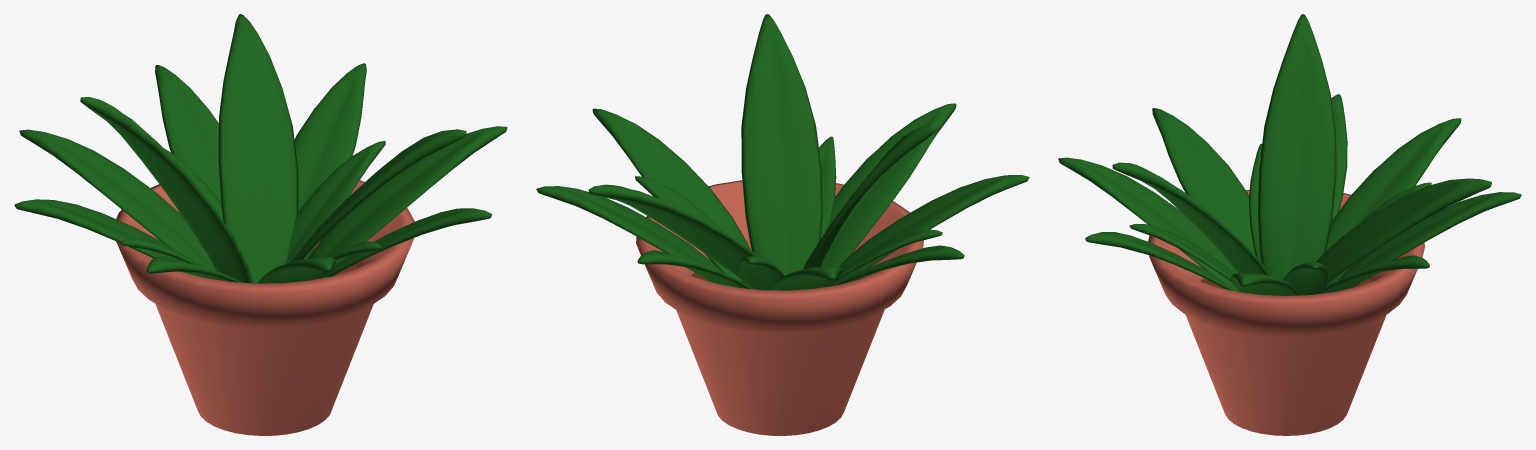
Rendered from TopfPfalanze1.fbx.
The picture shows the model from 3 angles, left to right: view 1: azimuth 30°, elevation 25°; view 2: azimuth 150°, elevation 25°; view 3: azimuth 270°, elevation 25°; orthographic projection. The views are drawn at different scales.
Parts seen in each view (by area): view 1: Pfanze 1; view 2: Pfanze 1; view 3: Pfanze 1.
Part boxes in pixels (bbox=[...]): Pfanze 1: bbox=[14, 14, 507, 435]; Pfanze 1: bbox=[536, 14, 1029, 435]; Pfanze 1: bbox=[1058, 14, 1521, 435].
Size of the model in its own units: 1020 by 769 by 1011.
